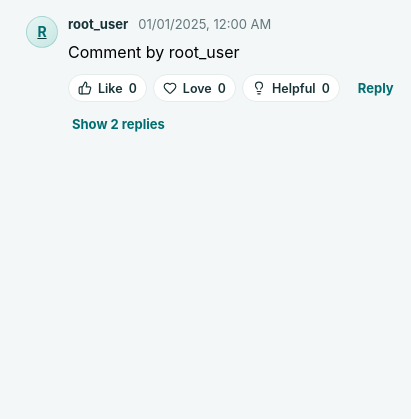
Test case: CommentItem reply mentions › starts collapsed, counts only direct replies, and toggles nested branches independently
Later steps or results of the test are not shown.
Click the button "Show 2 replies" at (118, 124), box [68,110,169,138]
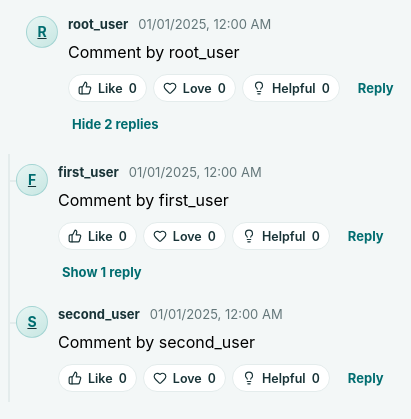
Result: the button "Hide 2 replies" is shown at [68,110,162,138]
Result: the button "Show 1 reply" is shown at [58,258,146,286]
